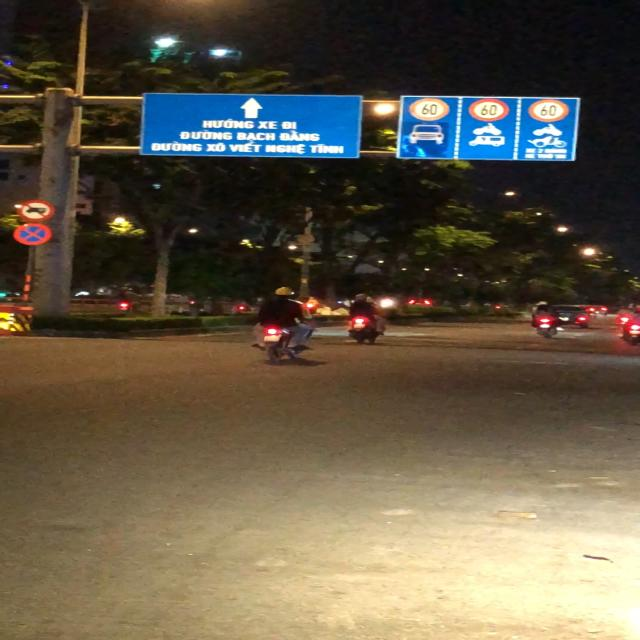Bien bao cam dung xe va do xe: (13, 223, 56, 246)
Bien bao cam xe oto tai: (15, 198, 57, 223)
Bien bao toc do toi da cho phep: (466, 97, 510, 124), (526, 98, 573, 123), (408, 96, 451, 122)
